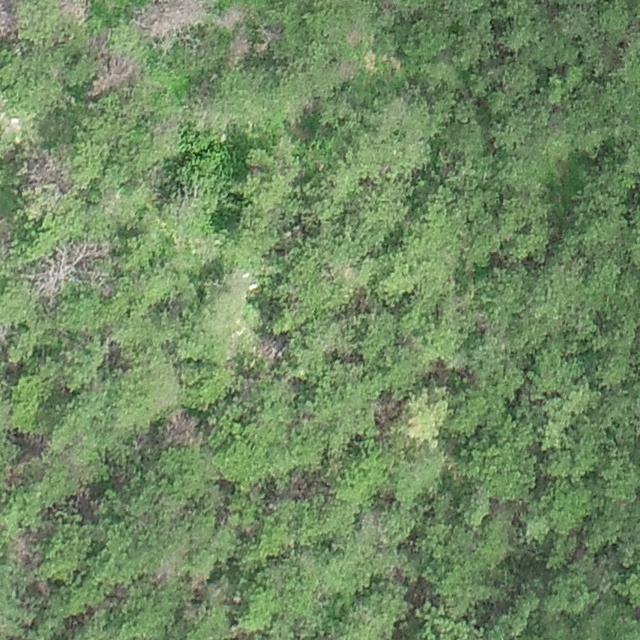unhealthy: (30, 243, 87, 297), (134, 0, 205, 37), (87, 55, 140, 95), (22, 152, 70, 191), (161, 409, 202, 449), (8, 532, 41, 566), (66, 239, 110, 264), (372, 393, 402, 427), (256, 335, 286, 363), (217, 4, 245, 31), (0, 0, 18, 42), (57, 0, 89, 22), (284, 470, 309, 497), (226, 35, 249, 63), (334, 58, 360, 82), (256, 26, 280, 50), (33, 579, 50, 597), (0, 322, 9, 345)
